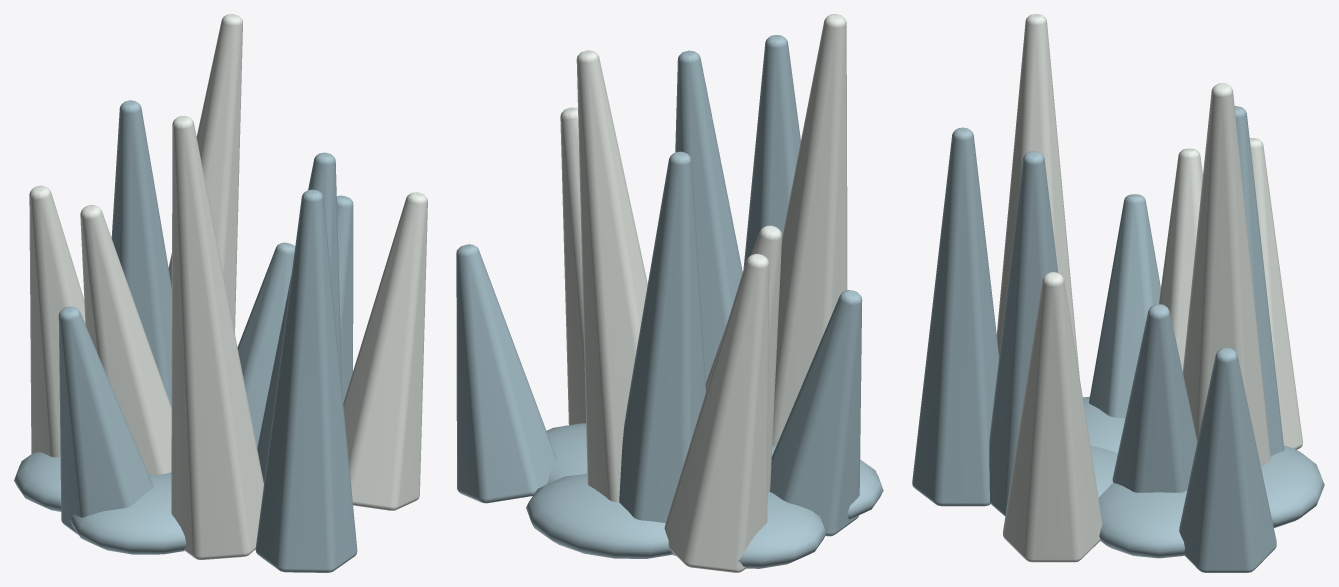
Rendered from bio_crystal_fan_11_near.glb.
The picture shows the model from 3 angles, left to right: view 1: azimuth 30°, elevation 25°; view 2: azimuth 150°, elevation 25°; view 3: azimuth 270°, elevation 25°; orthographic projection. The views are drawn at different scales.
Visible parts, largest first — view 1: Reflecting mineral prism.007, Reflecting mineral prism.002, Reflecting mineral prism.005, Reflecting mineral prism.004, Reflecting mineral prism.009, Reflecting mineral prism.006, Reflecting mineral prism.001, Reflecting mineral prism.003, Mineral substrate, Reflecting mineral prism, Reflecting mineral prism.010, Reflecting mineral prism.008; view 2: Reflecting mineral prism.001, Reflecting mineral prism.003, Reflecting mineral prism.006, Reflecting mineral prism.007, Reflecting mineral prism.008, Mineral substrate, Reflecting mineral prism.004, Reflecting mineral prism.010, Reflecting mineral prism.002, Reflecting mineral prism.005, Reflecting mineral prism.009; view 3: Reflecting mineral prism.002, Reflecting mineral prism.005, Reflecting mineral prism.003, Reflecting mineral prism.008, Reflecting mineral prism.010, Mineral substrate, Reflecting mineral prism, Reflecting mineral prism.004, Reflecting mineral prism.007, Reflecting mineral prism.009, Reflecting mineral prism.001, Reflecting mineral prism.006.
Part boxes in pixels (box(x1,y1,x2,y2)): Reflecting mineral prism.007: box(171, 116, 263, 559); Reflecting mineral prism.002: box(255, 189, 357, 572); Reflecting mineral prism.005: box(343, 192, 427, 510); Reflecting mineral prism.004: box(58, 306, 153, 534); Reflecting mineral prism.009: box(80, 205, 171, 474); Reflecting mineral prism.006: box(111, 100, 171, 406); Reflecting mineral prism.001: box(29, 185, 85, 457); Reflecting mineral prism.003: box(168, 14, 242, 373); Mineral substrate: box(14, 452, 186, 554); Reflecting mineral prism: box(237, 242, 294, 448); Reflecting mineral prism.010: box(257, 152, 342, 483); Reflecting mineral prism.008: box(336, 195, 353, 402); Reflecting mineral prism.001: box(664, 254, 769, 572); Reflecting mineral prism.003: box(576, 50, 647, 502); Reflecting mineral prism.006: box(619, 151, 705, 522); Reflecting mineral prism.007: box(772, 14, 847, 446); Reflecting mineral prism.008: box(456, 244, 556, 503); Mineral substrate: box(526, 423, 883, 568); Reflecting mineral prism.004: box(769, 290, 862, 536); Reflecting mineral prism.010: box(675, 50, 742, 382); Reflecting mineral prism.002: box(743, 35, 800, 268); Reflecting mineral prism.005: box(560, 107, 585, 424); Reflecting mineral prism.009: box(705, 225, 781, 492); Reflecting mineral prism.002: box(912, 127, 999, 506); Reflecting mineral prism.005: box(1003, 272, 1102, 562); Reflecting mineral prism.003: box(1182, 83, 1270, 467); Reflecting mineral prism.008: box(1179, 348, 1276, 572); Reflecting mineral prism.010: box(989, 151, 1058, 516); Mineral substrate: box(1083, 396, 1324, 558); Reflecting mineral prism: box(1112, 304, 1197, 492); Reflecting mineral prism.004: box(1089, 194, 1160, 418); Reflecting mineral prism.007: box(996, 14, 1079, 375); Reflecting mineral prism.009: box(1159, 148, 1202, 371); Reflecting mineral prism.001: box(1249, 138, 1302, 449); Reflecting mineral prism.006: box(1234, 106, 1284, 456).
Bounding box in the file's own units: 1.47 × 1.85 × 1.55.
